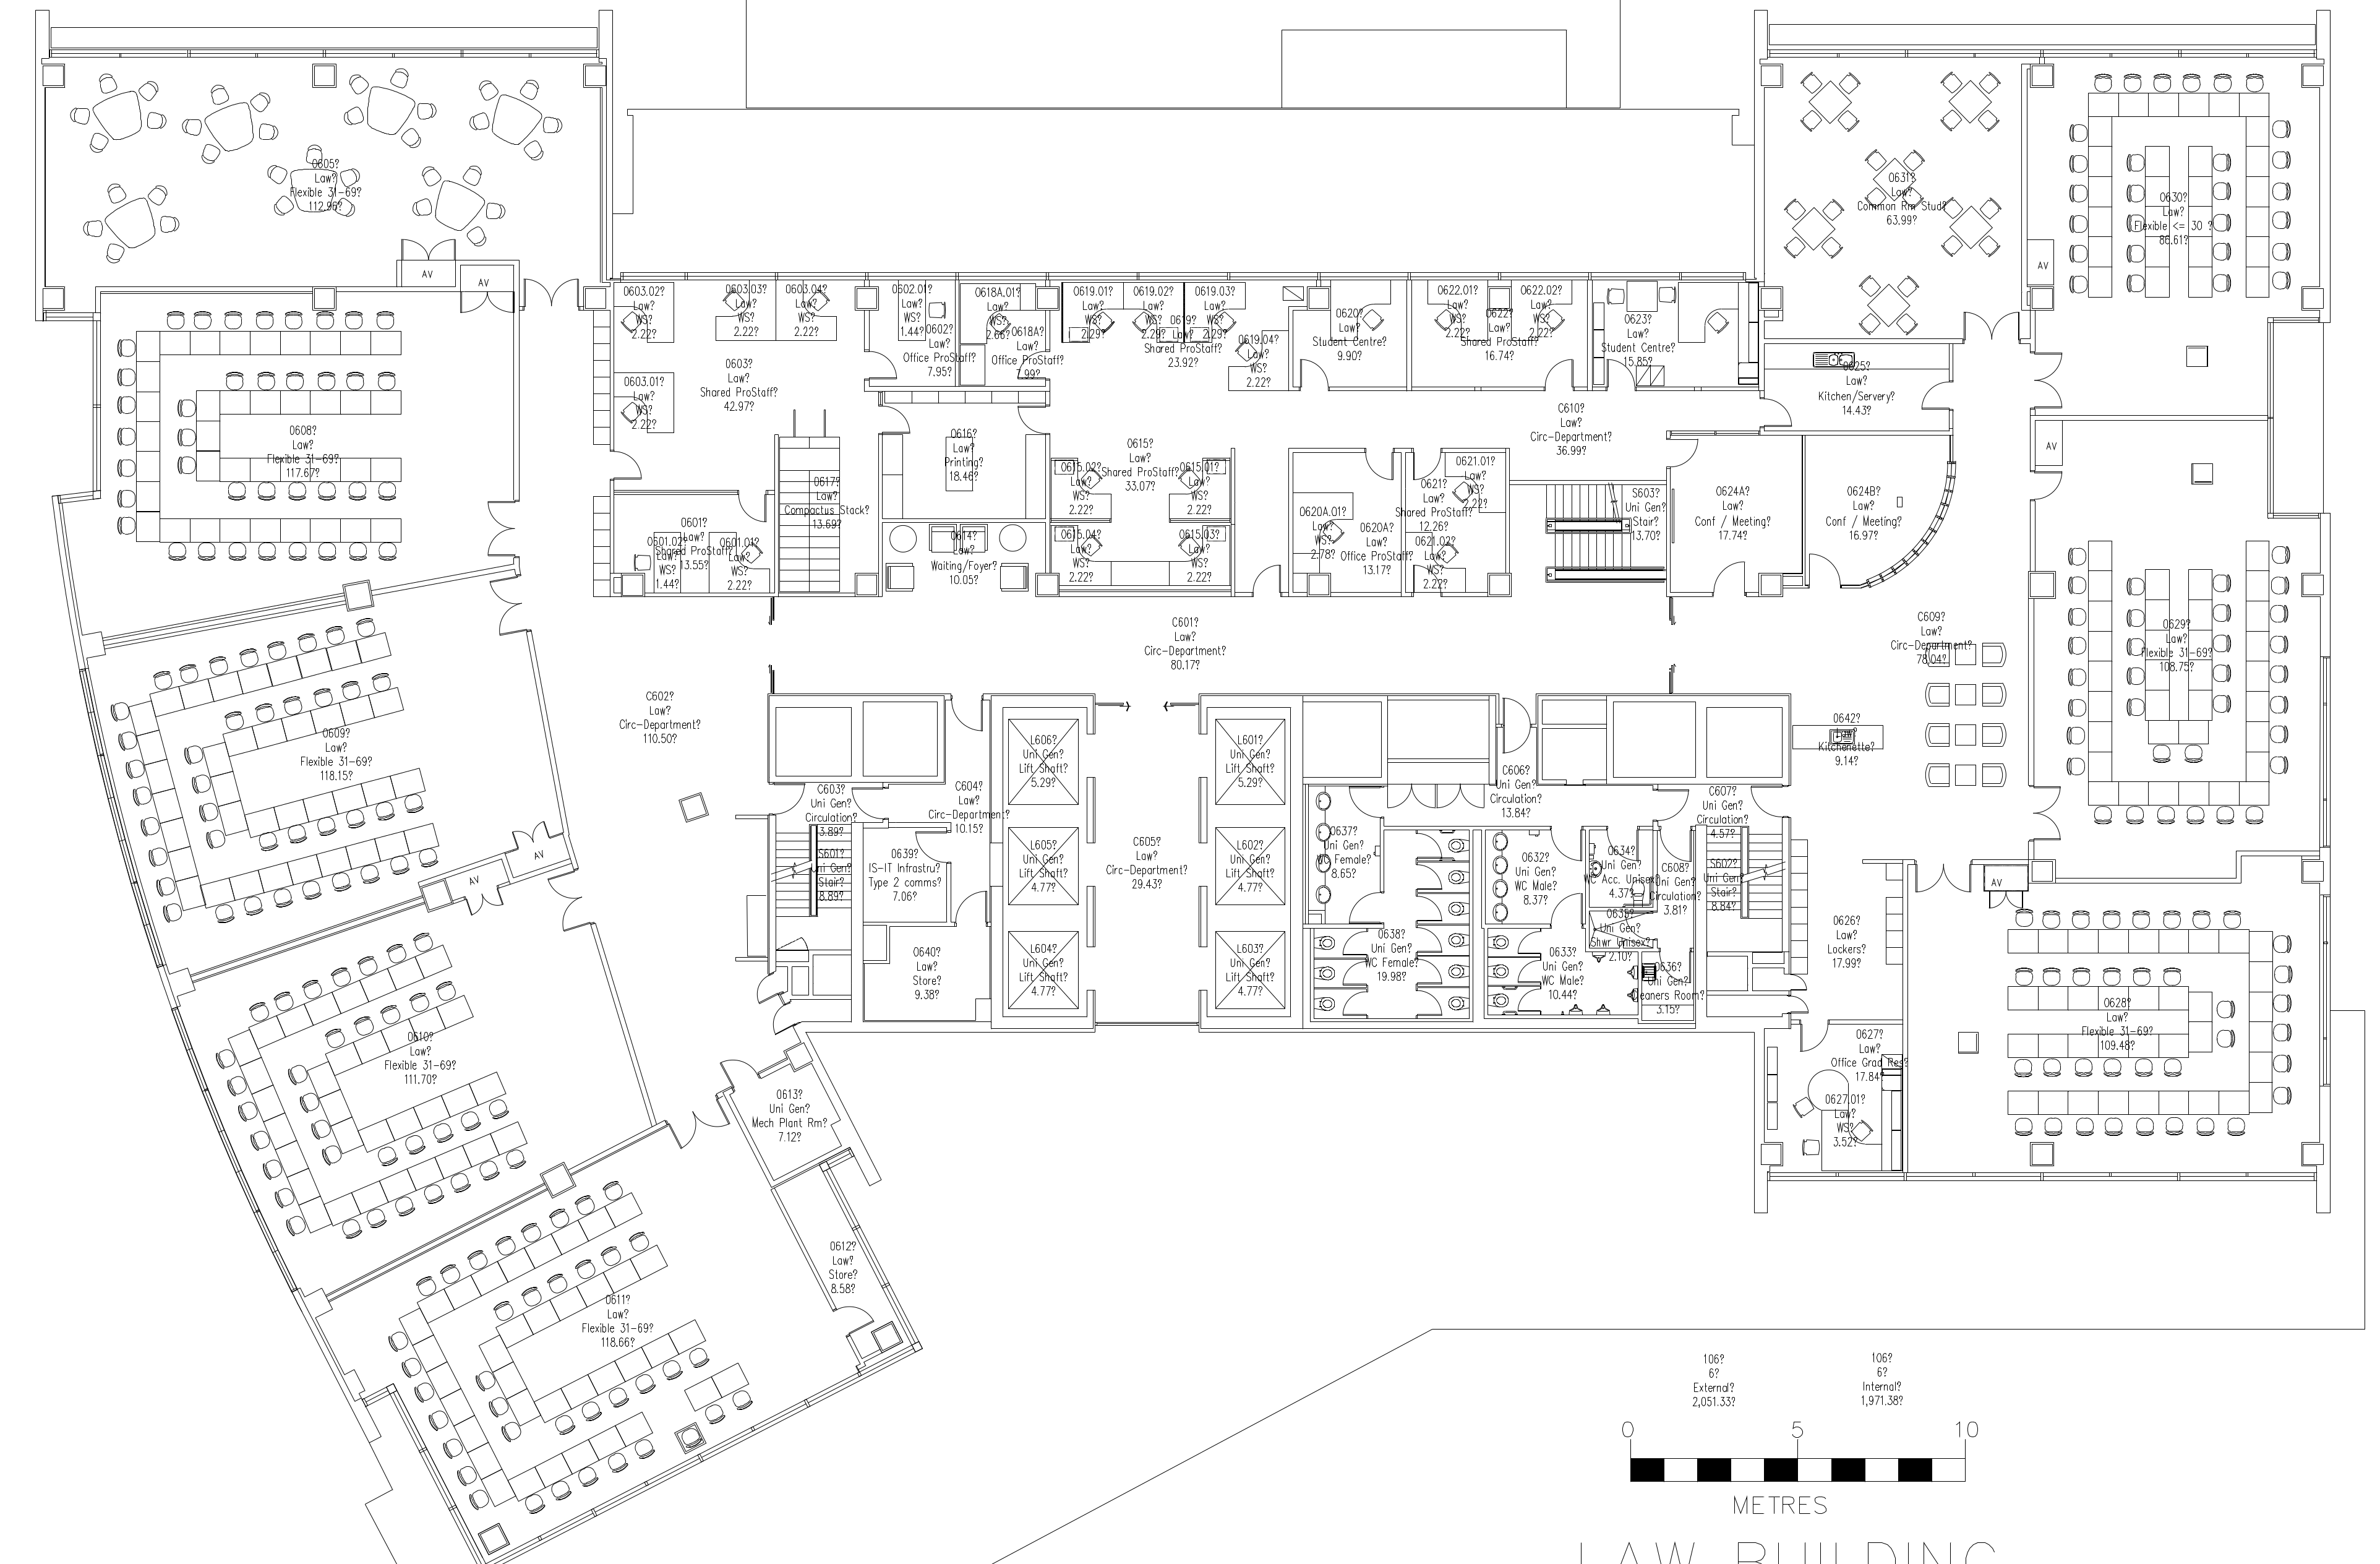door: (668, 1103, 731, 1157), (523, 269, 583, 321), (546, 869, 588, 937), (483, 571, 525, 639), (473, 490, 513, 559), (1961, 302, 2021, 342), (1911, 862, 1972, 899), (2035, 347, 2066, 410), (2035, 779, 2064, 845), (1501, 695, 1530, 758), (457, 292, 515, 321), (401, 232, 457, 260), (838, 1300, 878, 1337), (775, 780, 811, 819), (848, 784, 885, 820), (951, 700, 986, 738), (1385, 787, 1436, 813), (510, 817, 551, 848), (913, 829, 947, 866), (1436, 789, 1485, 815), (954, 883, 988, 922), (466, 888, 506, 920), (719, 1053, 759, 1084), (614, 449, 651, 482), (735, 494, 771, 527), (1349, 784, 1382, 820), (1659, 829, 1693, 864), (1748, 784, 1780, 820), (1549, 829, 1583, 862), (1549, 890, 1583, 923), (1670, 436, 1703, 470), (1764, 394, 1797, 428), (1916, 379, 1949, 412), (1345, 892, 1380, 923), (1658, 787, 1689, 822), (1712, 559, 1747, 590), (1806, 552, 1841, 583), (869, 347, 900, 381), (2036, 470, 2069, 501), (883, 401, 913, 436), (763, 1004, 794, 1035), (1797, 1023, 1829, 1054), (1016, 403, 1045, 435), (749, 974, 778, 1005), (1544, 356, 1574, 386), (1412, 452, 1441, 482), (1364, 454, 1394, 484), (1253, 562, 1282, 592), (1984, 890, 2028, 909), (1607, 358, 1635, 388), (1300, 358, 1328, 388), (1337, 958, 1364, 984), (1417, 958, 1445, 984), (1338, 930, 1364, 957), (1417, 990, 1443, 1016), (1338, 991, 1366, 1016), (1417, 927, 1445, 951), (1415, 833, 1443, 857), (1419, 897, 1445, 922), (1790, 995, 1809, 1016), (1790, 974, 1809, 993)
